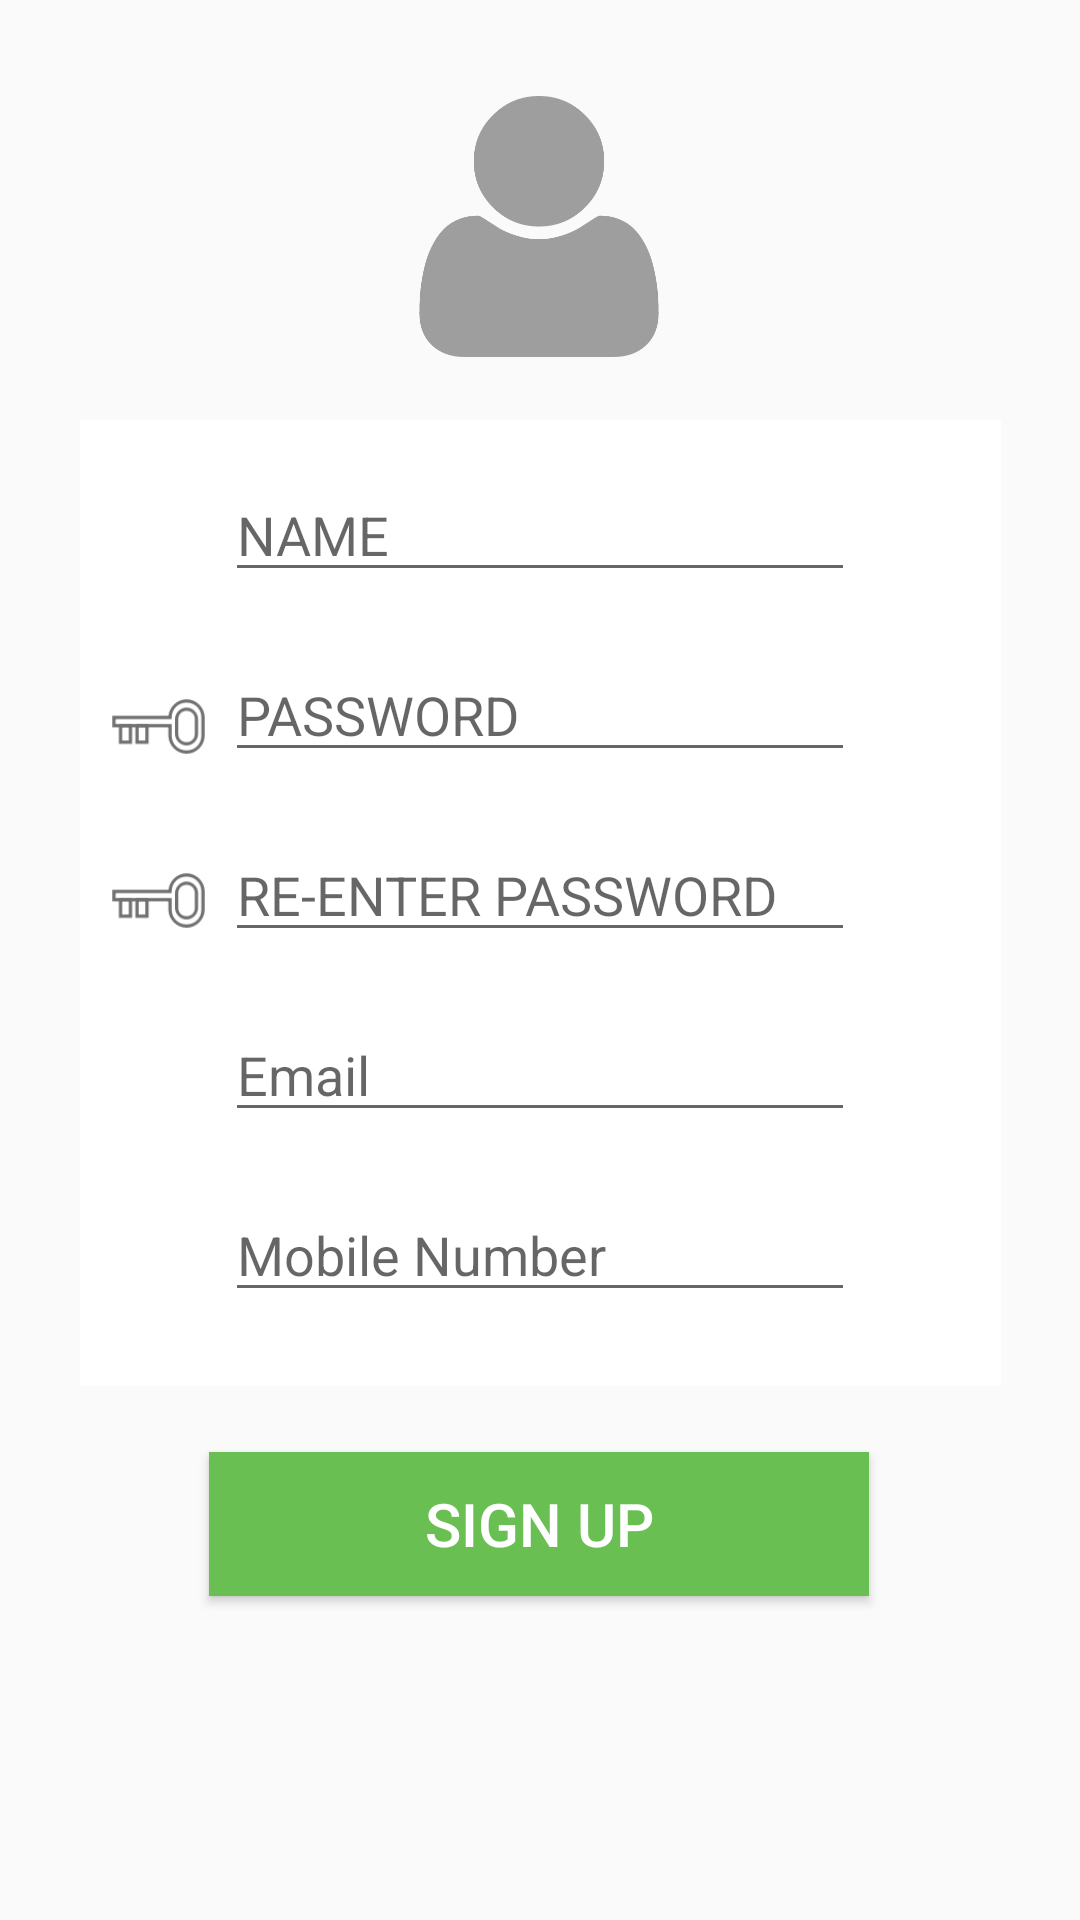

Icon click points for this 1080w x 1920h phone screenshot, format point (x, y):
key: point (158, 726), point (158, 900)
user: point (539, 226)
